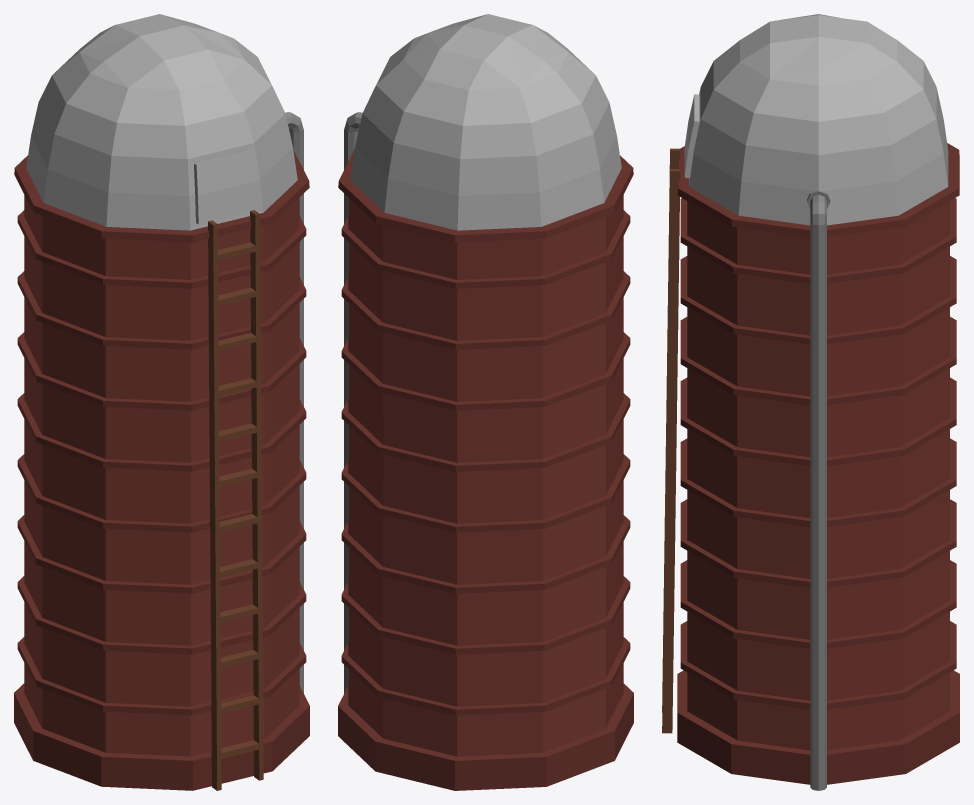
Rendered from Silo.glb.
3 views of the same model, side by side, from view 1: azimuth 30°, elevation 25°; view 2: azimuth 150°, elevation 25°; view 3: azimuth 270°, elevation 25° (orthographic).
Visible parts, largest first — view 1: Silo_Merged; view 2: Silo_Merged; view 3: Silo_Merged.
Part boxes in pixels (box(x1,y1,x2,y2)): Silo_Merged: box(14, 14, 309, 790); Silo_Merged: box(338, 14, 633, 790); Silo_Merged: box(662, 14, 959, 790).
Size of the model in its own units: 3.67 by 9.07 by 3.51.
